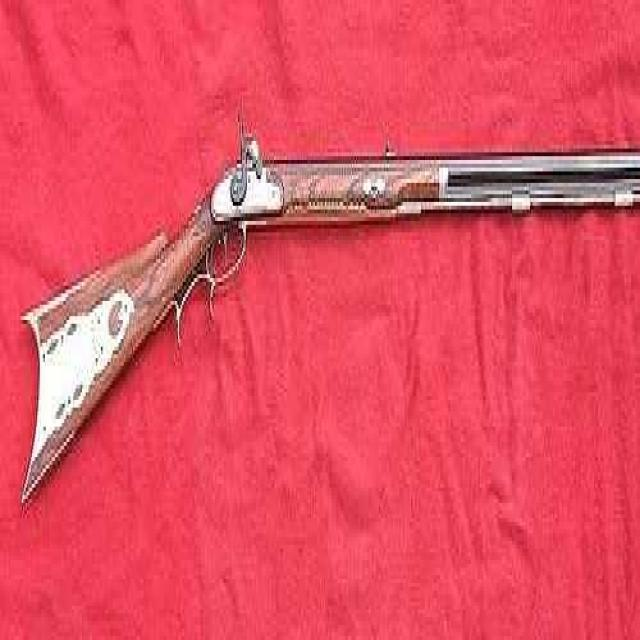heavyweapon: (28, 51, 640, 516)
